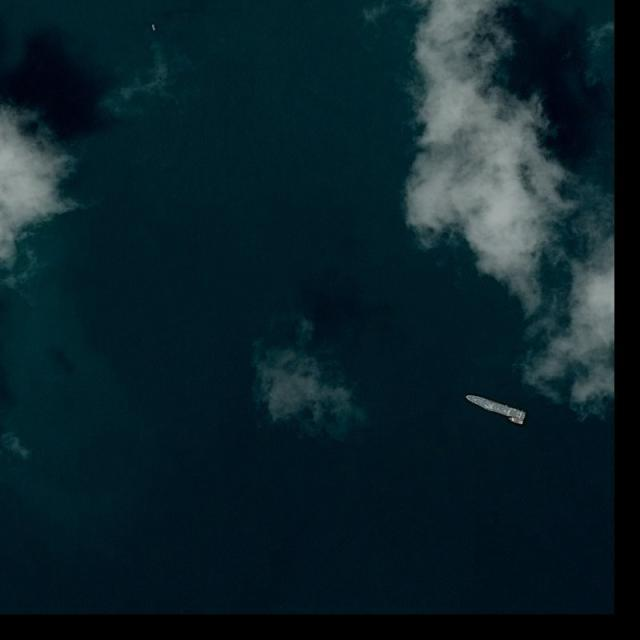ship: (464, 391, 526, 421), (508, 417, 524, 426), (150, 22, 156, 32)
